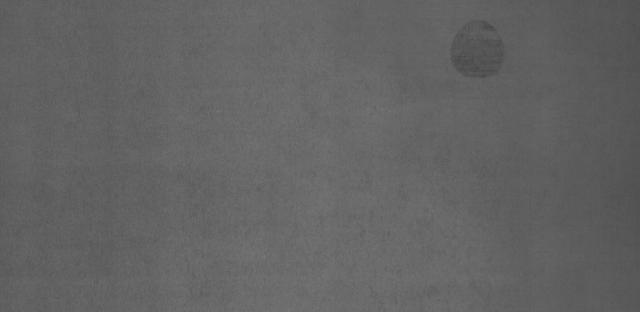oil_spot: (444, 10, 508, 82)
